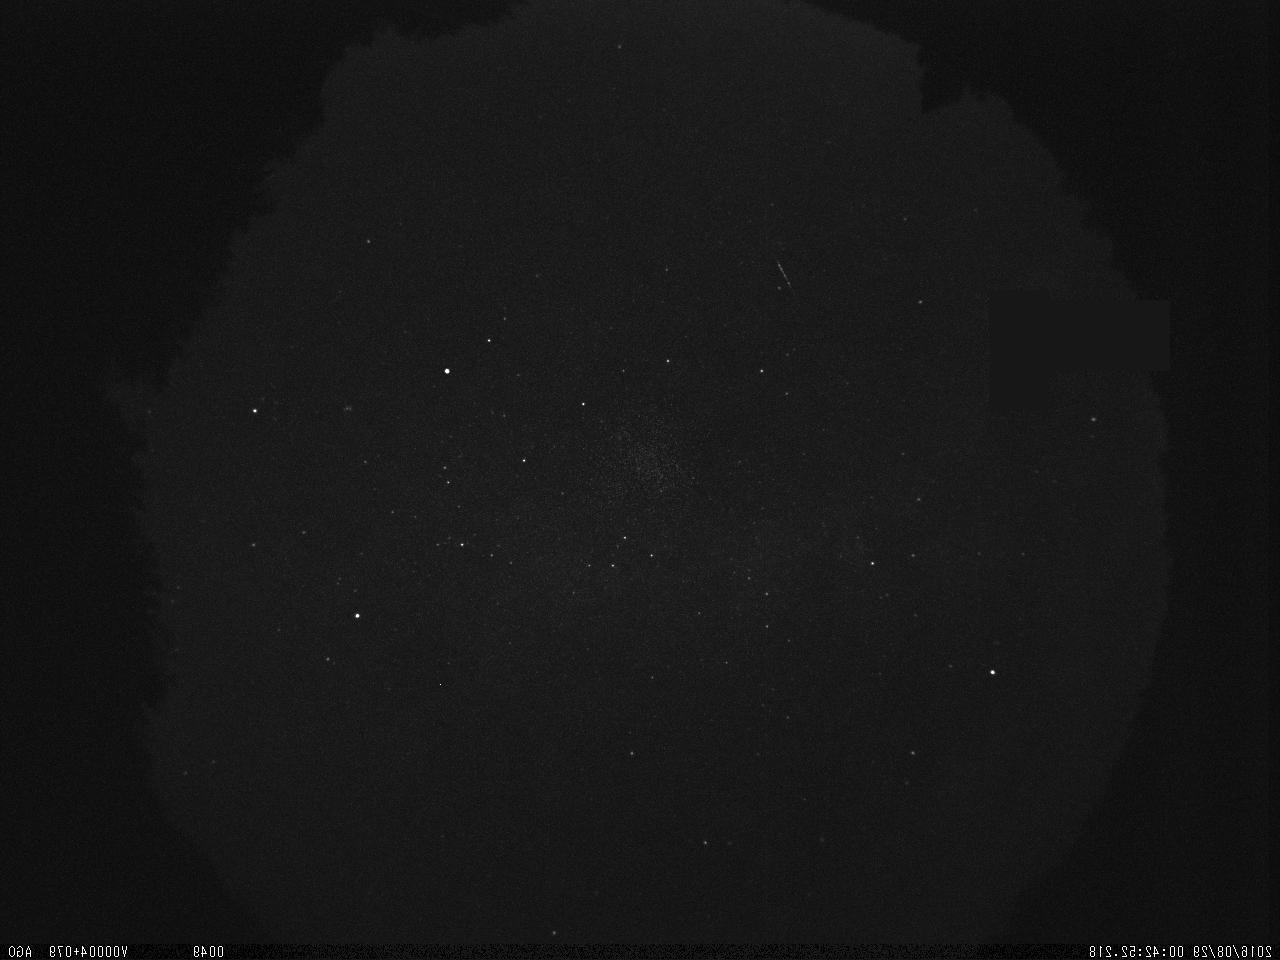meteor: (765, 257, 807, 309)
